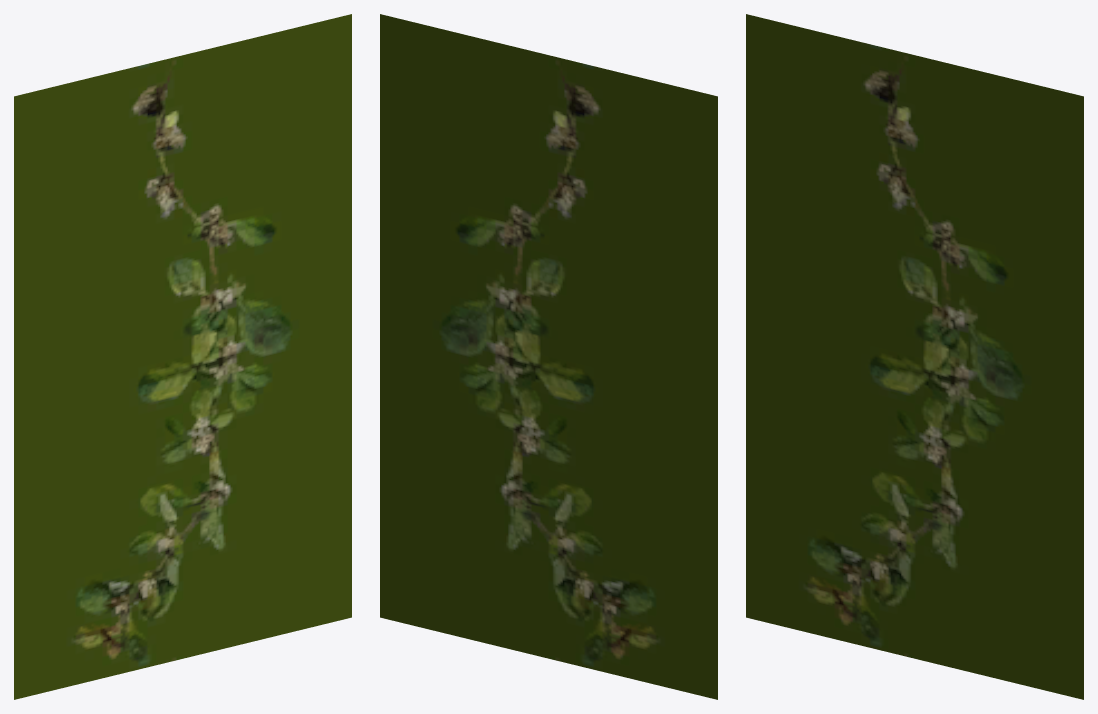
The model's file is SeaWeed1.FBX.
The picture shows the model from 3 angles, left to right: view 1: azimuth 30°, elevation 25°; view 2: azimuth 150°, elevation 25°; view 3: azimuth 330°, elevation 25°; orthographic projection.
Visible parts, largest first — view 1: Plane001; view 2: Plane001; view 3: Plane001.
Boxes of the visible parts, box(x1,y1,x2,y2) form: Plane001: box(14, 14, 351, 699); Plane001: box(380, 14, 717, 699); Plane001: box(746, 14, 1083, 699).
Size of the model in its own units: 28.35 by 48.37 by 2.11e-06.
